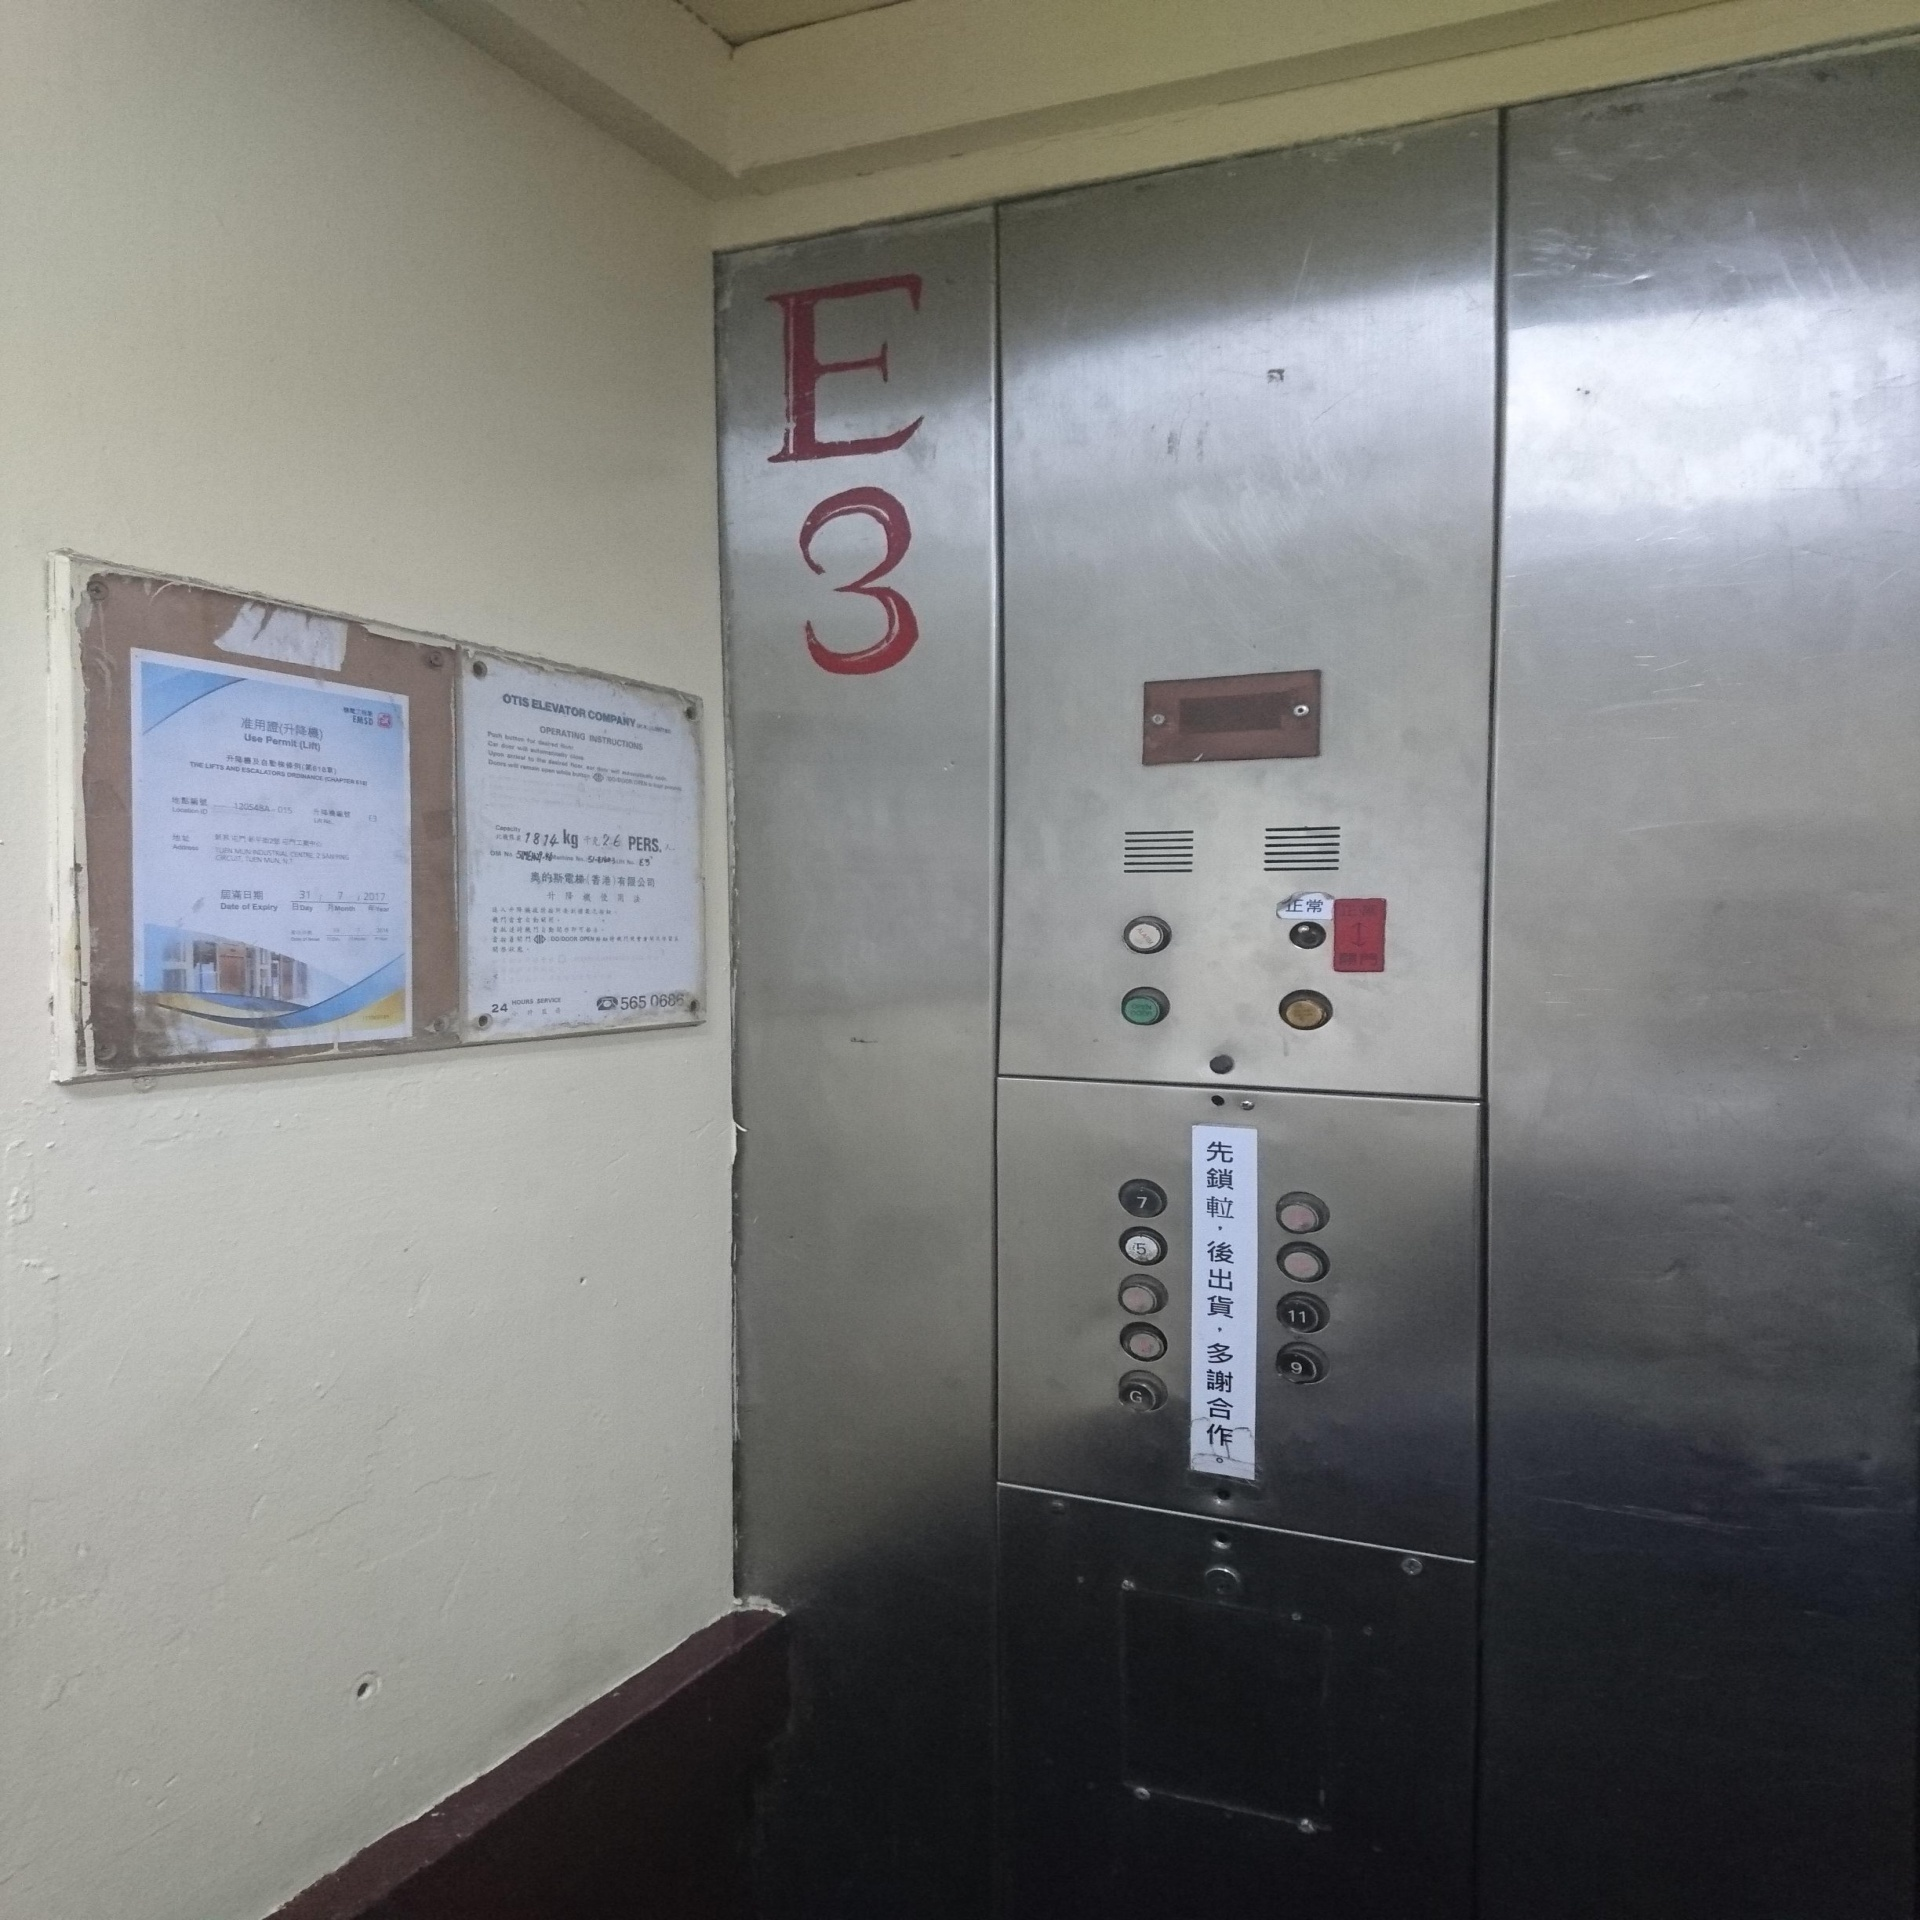11: (1275, 1289, 1331, 1335)
5: (1116, 1224, 1169, 1268)
7: (1116, 1175, 1169, 1222)
9: (1275, 1340, 1333, 1387)
G: (1116, 1368, 1169, 1417)
blur: (1275, 1189, 1331, 1238), (1116, 1268, 1169, 1317), (1116, 1317, 1169, 1366), (1275, 1240, 1331, 1285)
indicator: (1289, 918, 1327, 951), (1210, 1053, 1234, 1074)
keyhole: (1203, 1563, 1241, 1602)
text_alarm: (1122, 913, 1173, 955)
text_blur: (1278, 986, 1335, 1030)
text_open: (1118, 985, 1171, 1029)
